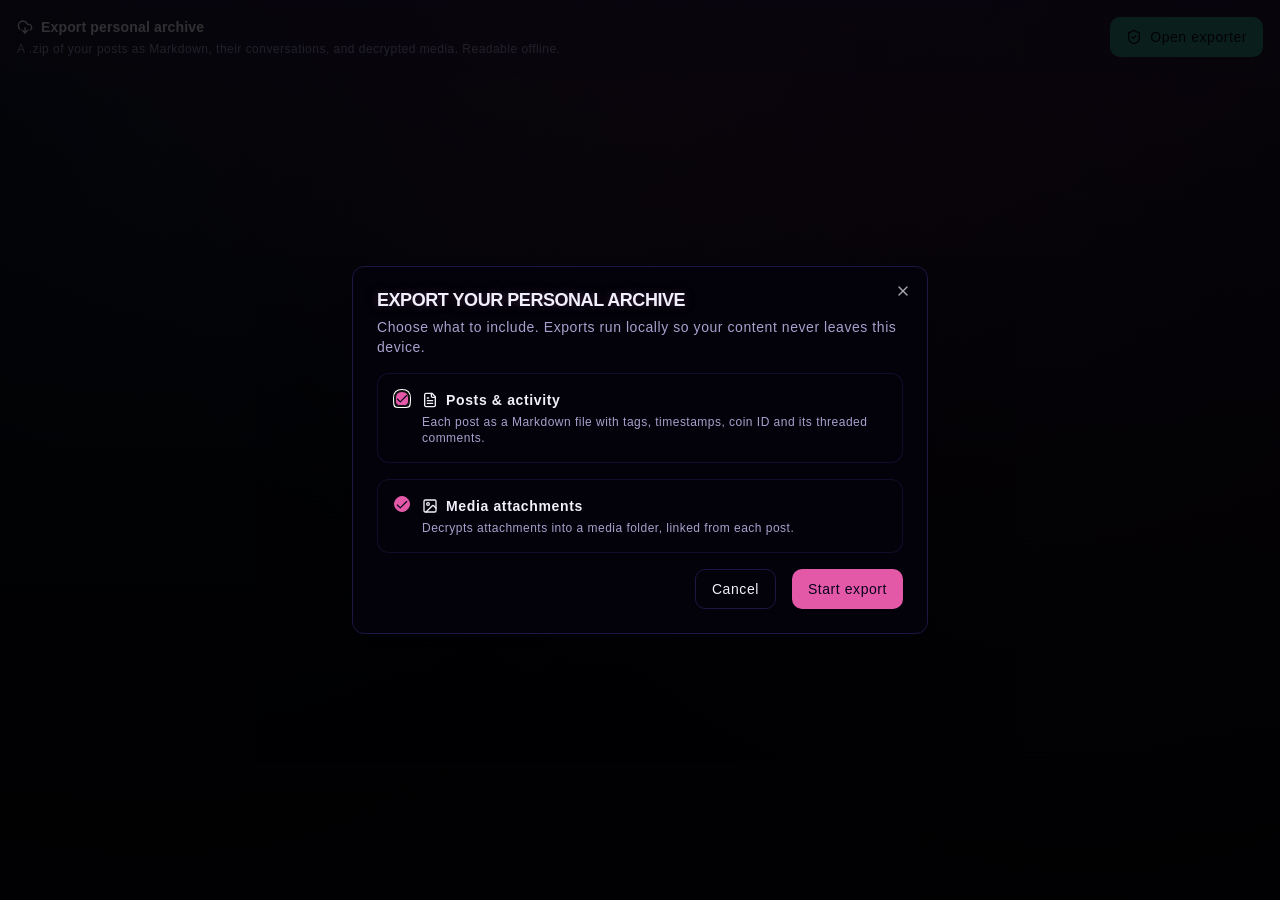
Test: Free up space in the exporter › stays locked until the zip is downloaded, then clears only what the zip holds
Click the button "Start export".
click(847, 589)  # box [792,569,903,609]
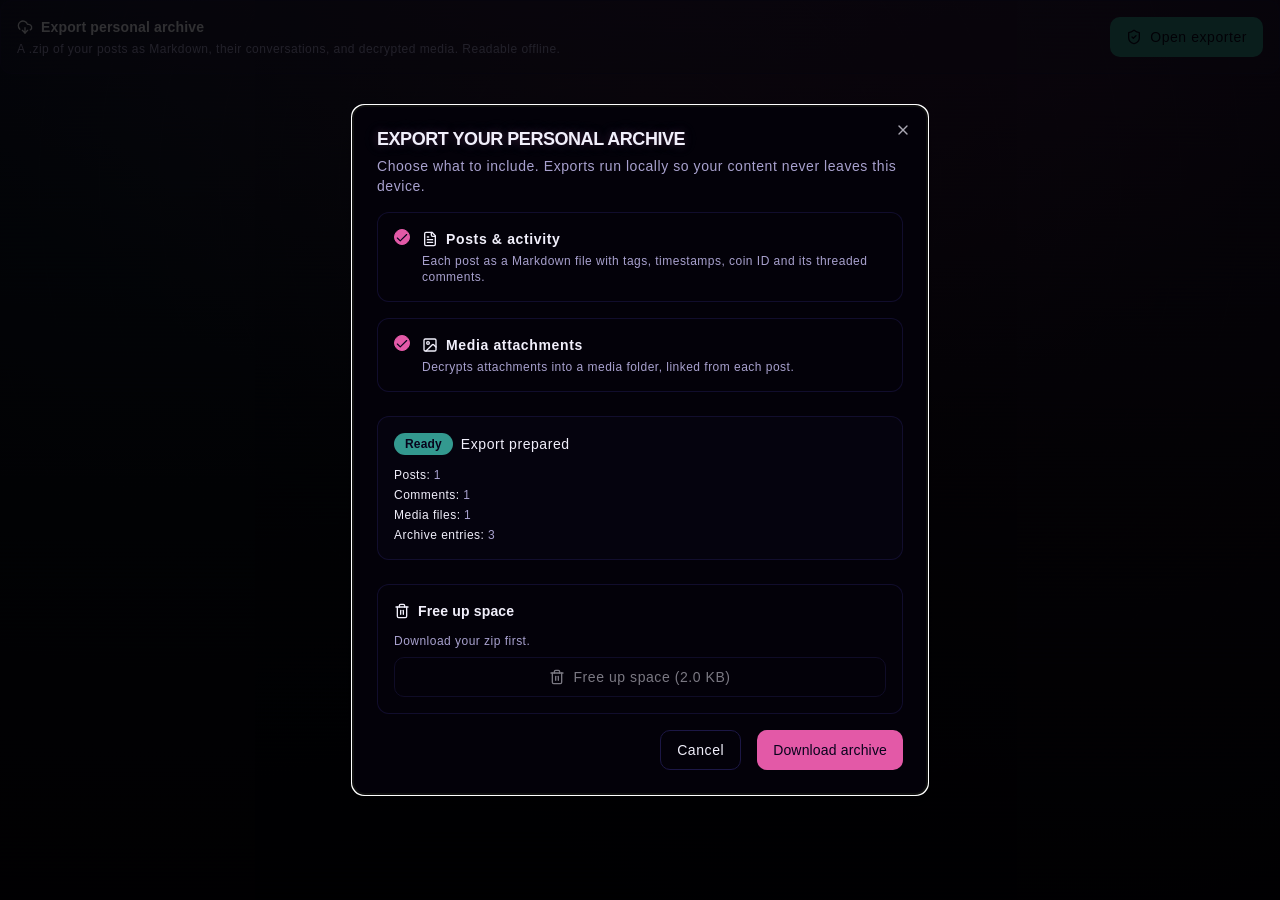
Expected: the text "Download your zip first." is shown, [394,634,530,648]
Expected: the button "Free up space (2.0 KB)" is disabled, [394,657,886,697]
Click the link "Download archive".
click(830, 750)  # box [757,730,903,770]
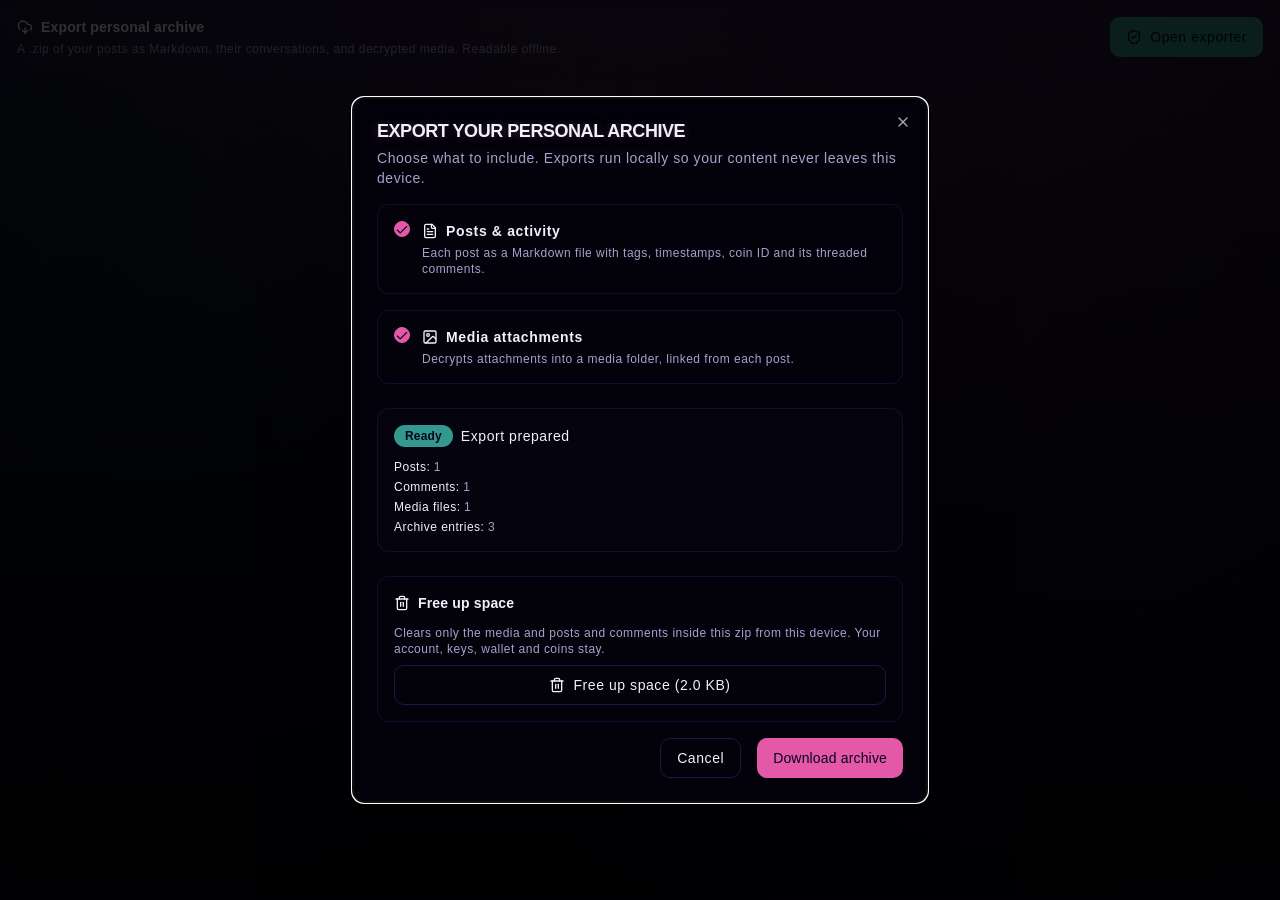
Expected: the button "Free up space (2.0 KB)" is enabled
Click the button "Free up space (2.0 KB)".
click(640, 685)  # box [394,665,886,705]
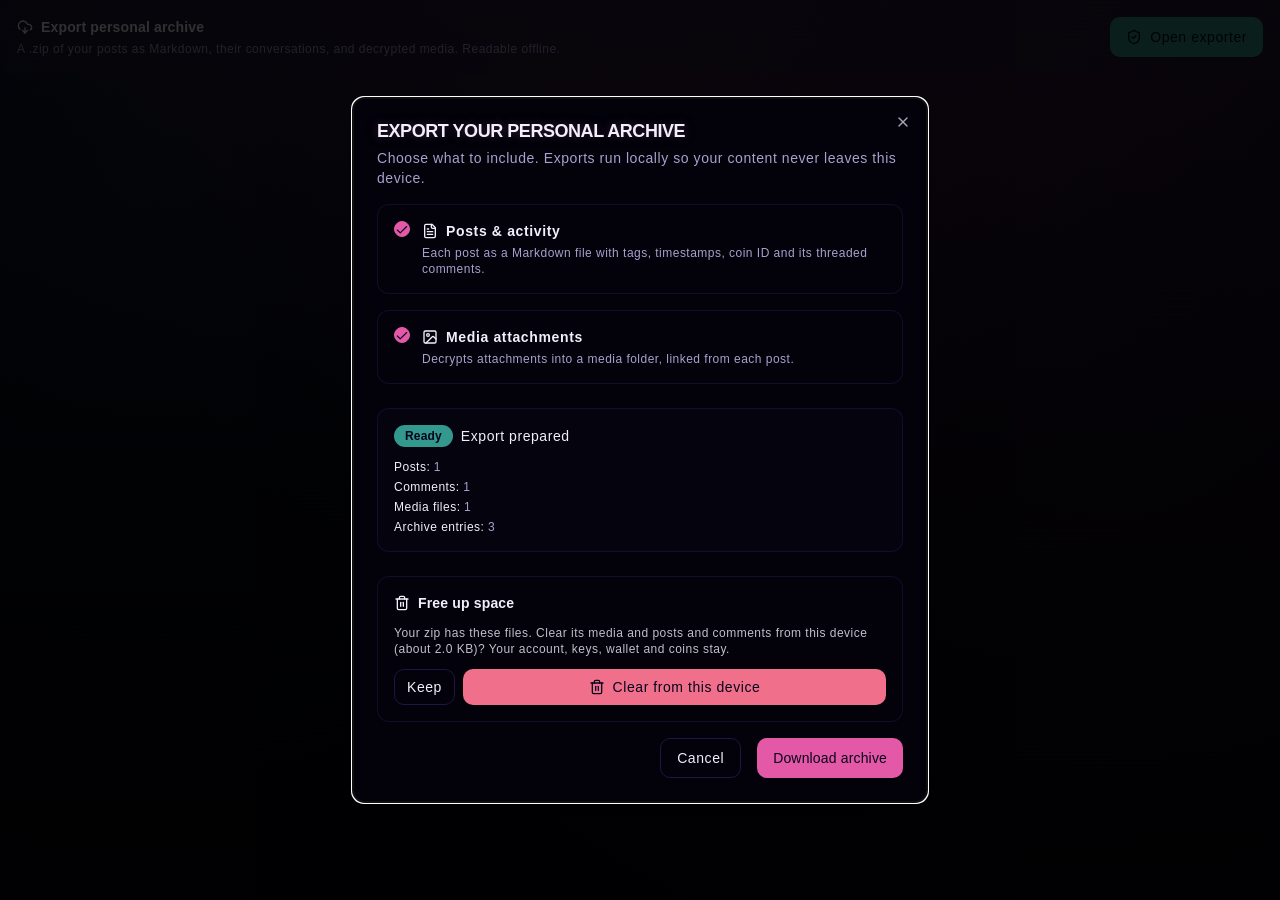
Click the button "Clear from this device".
click(674, 687)  # box [463,669,886,705]
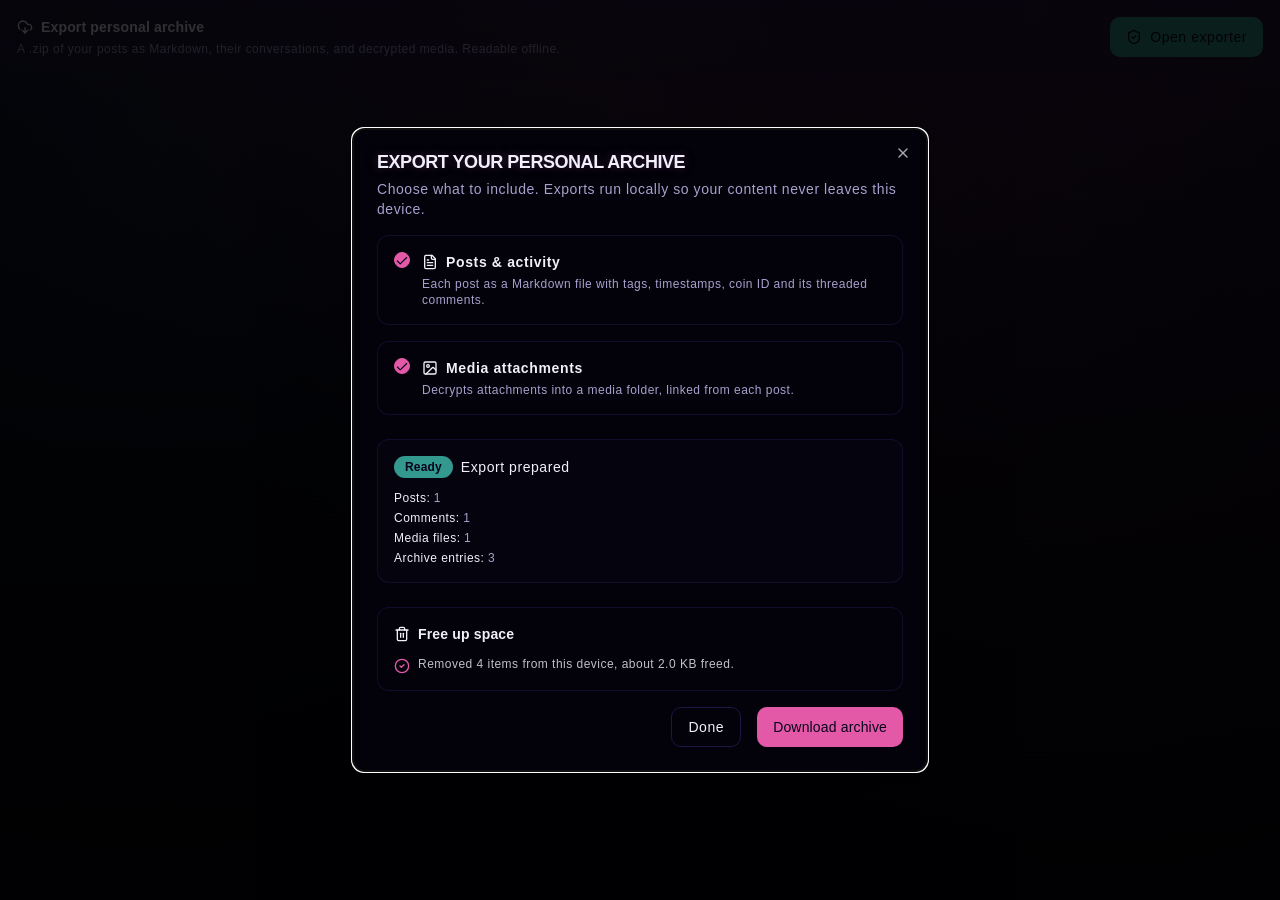
Expected: the text "Removed 4 items from this device, about 2.0 KB freed." is shown, [394,657,734,674]
